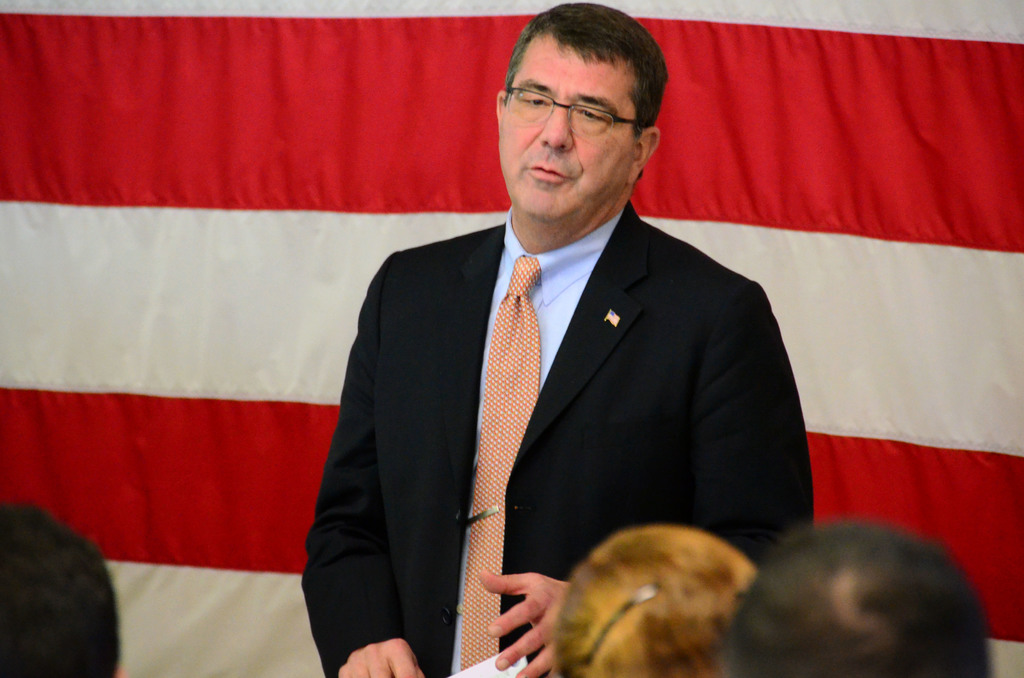Person: (727, 519, 995, 678), (556, 523, 752, 678), (0, 504, 125, 678)
